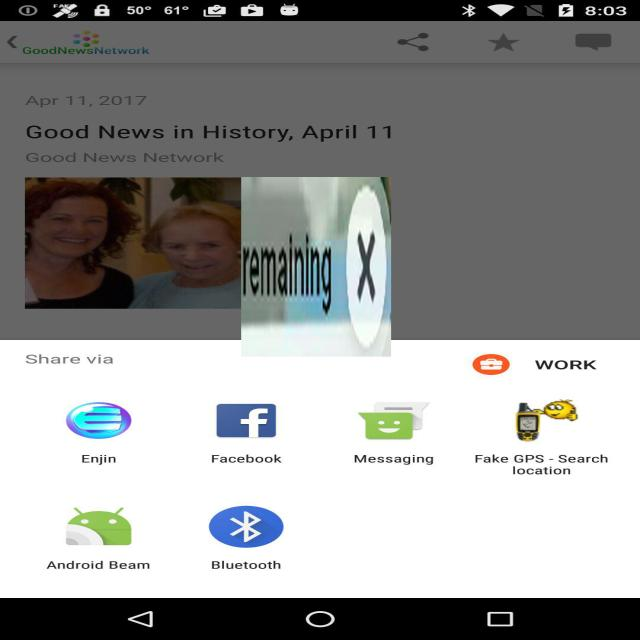misdirection: (241, 177, 391, 357)
